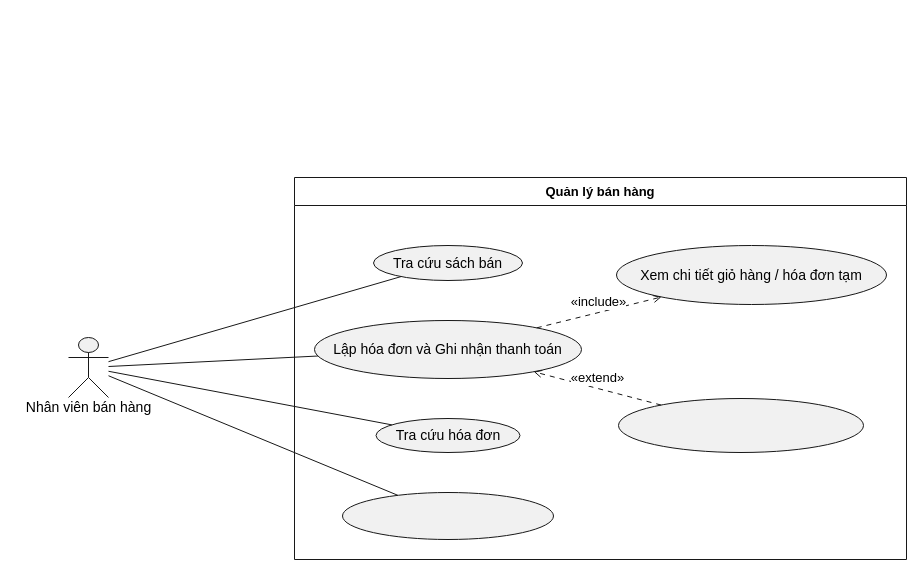
This 924x577 diagram has some shape labels left out. The shapes that lost their labels are listed below. From the top down, each one's box as (x1, y1, x2, y2) in pixels, then its label:
(618, 398, 864, 452): Áp dụng khuyến mãi vào hóa đơn
(342, 492, 554, 540): Quản lý trả hàng / đổi hàng
